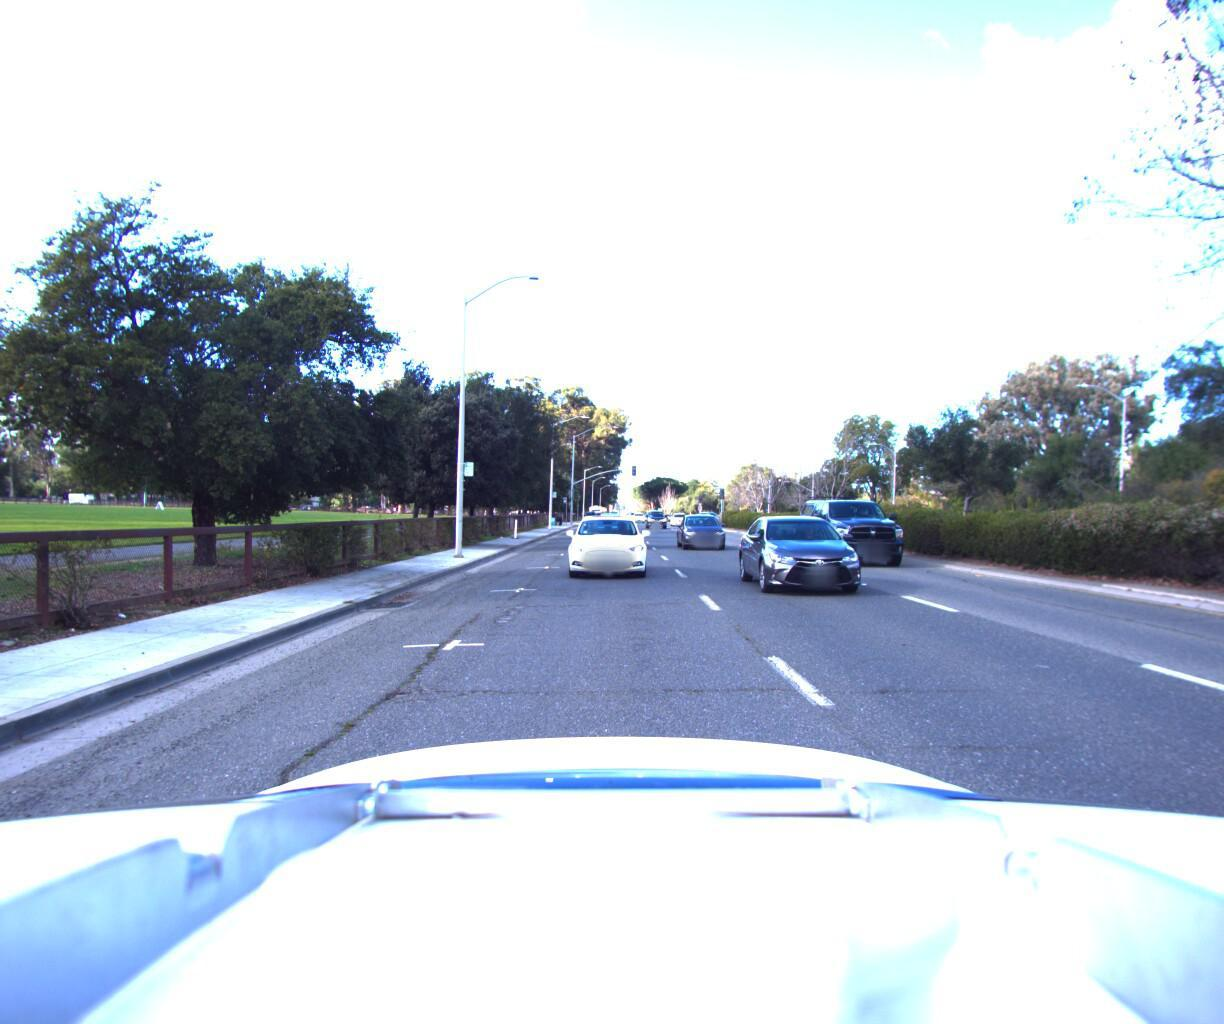car: (738, 500, 893, 600), (798, 485, 925, 568), (559, 506, 656, 578), (674, 508, 736, 548), (645, 507, 669, 526), (665, 507, 689, 522)
